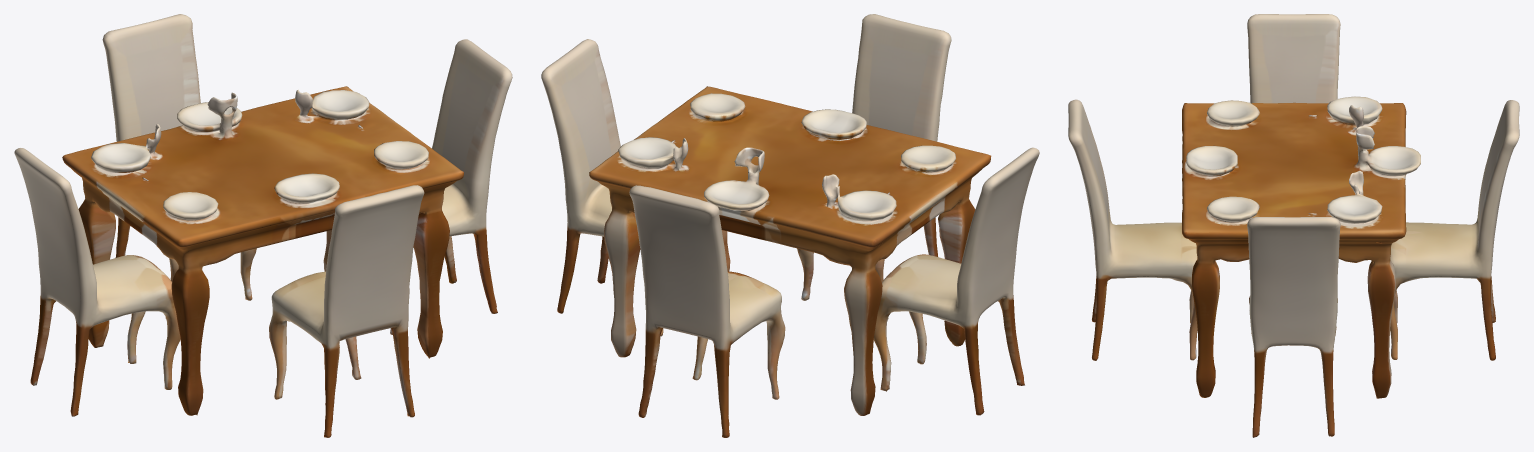
3 renders of one model, left to right at view 1: azimuth 30°, elevation 25°; view 2: azimuth 150°, elevation 25°; view 3: azimuth 270°, elevation 25°, orthographic. The views are drawn at different scales.
Visible parts, largest first — view 1: model; view 2: model; view 3: model.
Part boxes in pixels (<box>): model: <box>14,14,512,437</box>; model: <box>541,14,1039,437</box>; model: <box>1068,14,1519,437</box>.
Size of the model in its own units: 1.9 by 0.9664 by 1.74.
Materials: 1 (1 with a texture image).
